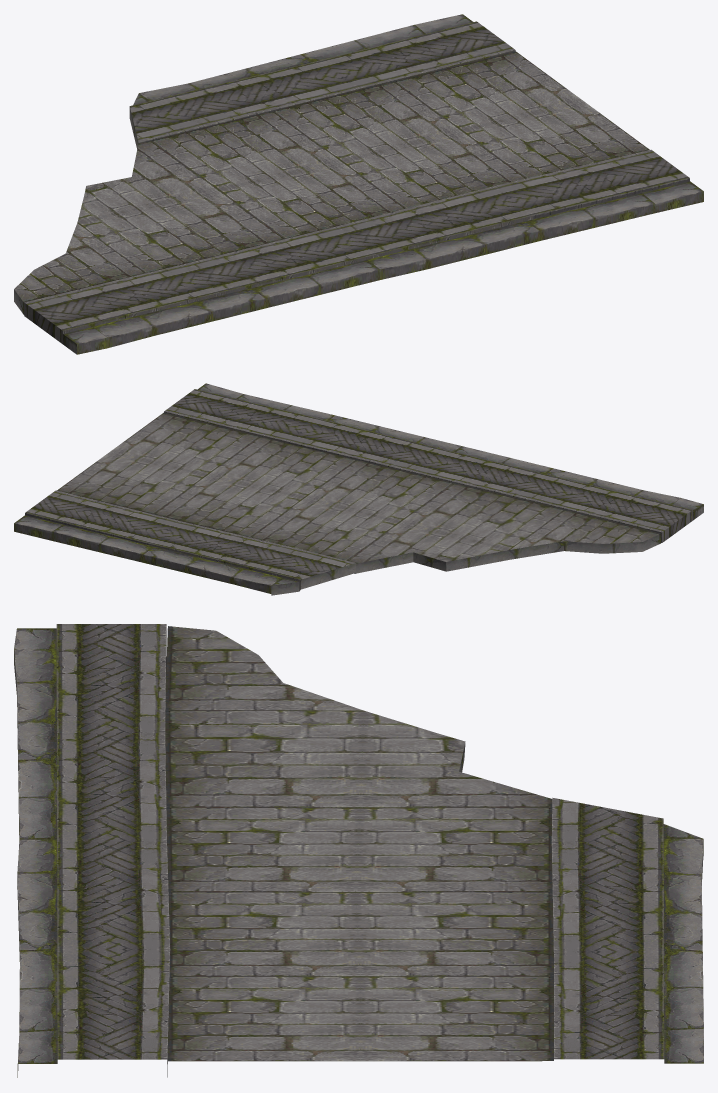
File: 4009_Item_dimian_3.FBX
3 views of the same model, one above another, from view 1: azimuth 30°, elevation 25°; view 2: azimuth 150°, elevation 25°; view 3: azimuth 270°, elevation 25° (orthographic). The views are drawn at different scales.
Parts seen in each view (by area): view 1: 4009_Item_dimian_3; view 2: 4009_Item_dimian_3; view 3: 4009_Item_dimian_3.
Boxes of the visible parts, bbox=[...] form: 4009_Item_dimian_3: bbox=[14, 14, 703, 354]; 4009_Item_dimian_3: bbox=[14, 383, 703, 595]; 4009_Item_dimian_3: bbox=[14, 624, 703, 1077].
Bounding box in the file's own units: 966 × 648 × 25.7.
